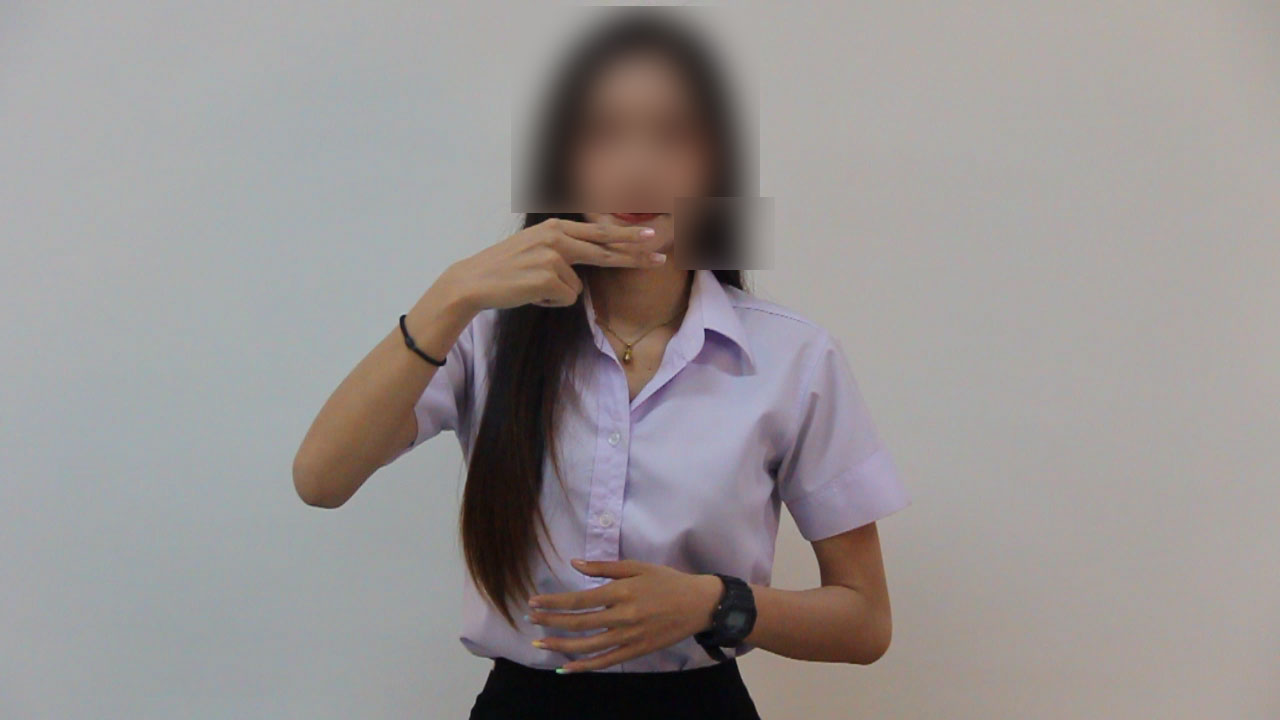hor: (447, 204, 682, 331)
